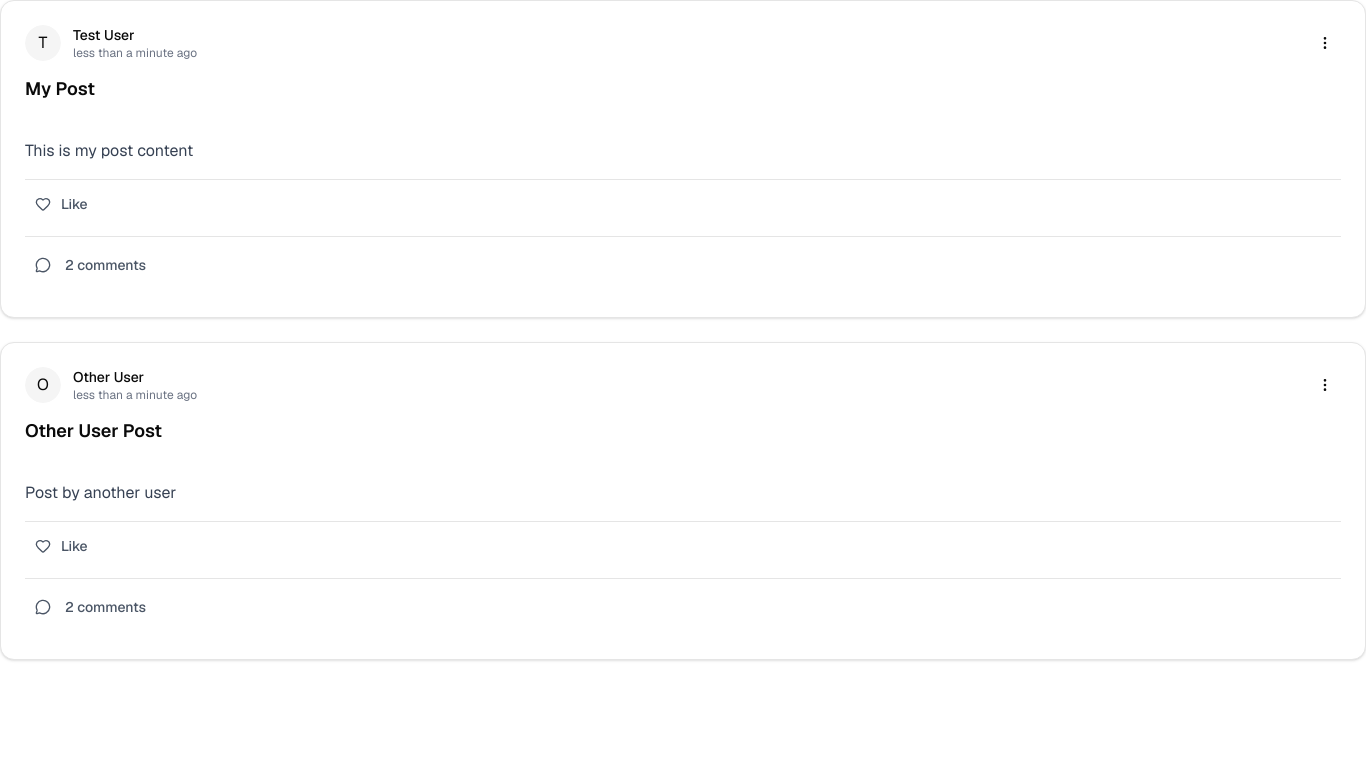
Test: AlbumPostFeed › Permission-based Dropdown Display › shows both edit and delete for own posts as admin
The image size is (1366, 768).
Click dropdown for own post
Click the button with test id "post-dropdown-post-1": (1325, 43) [1309,27,1341,59]
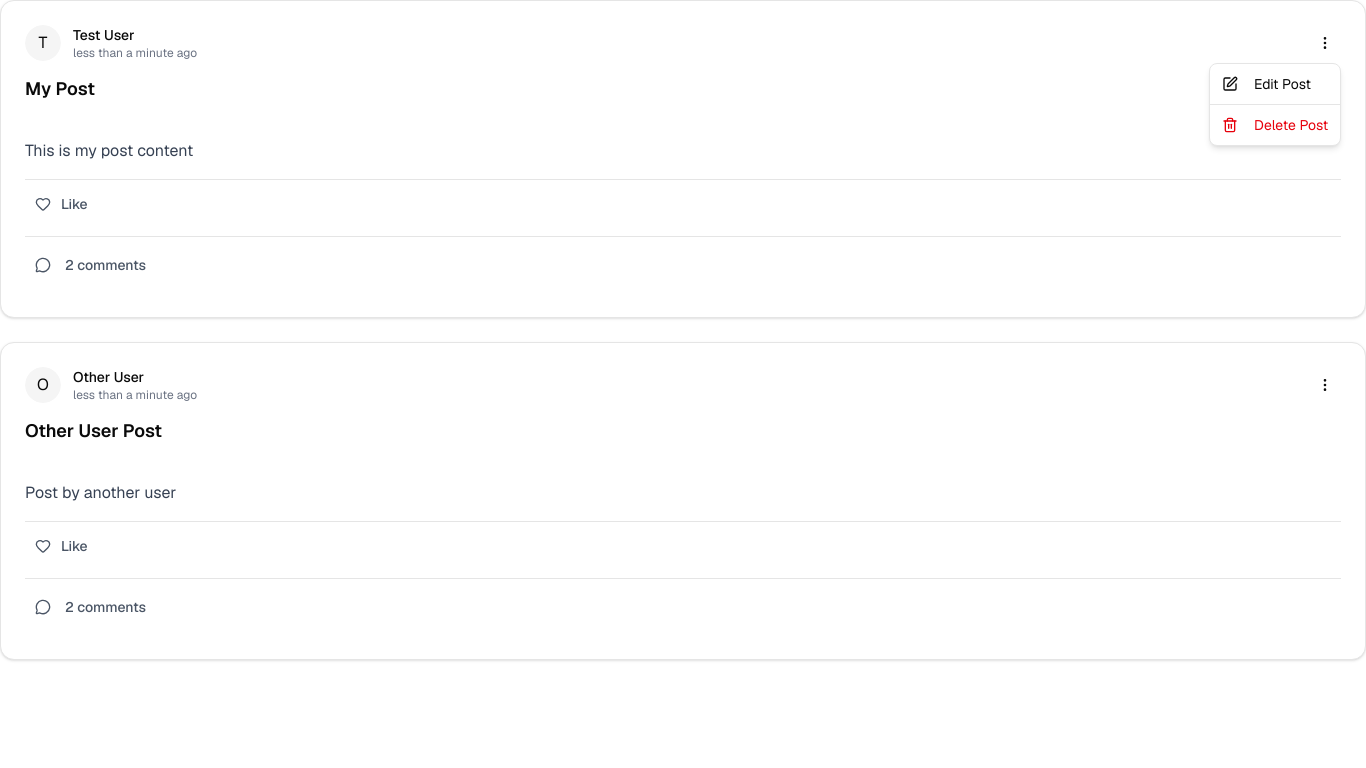
Now the menu item "Edit Post" is shown, box [1222,75,1311,93]
Now the menu item "Delete Post" is shown, box [1222,116,1328,134]
